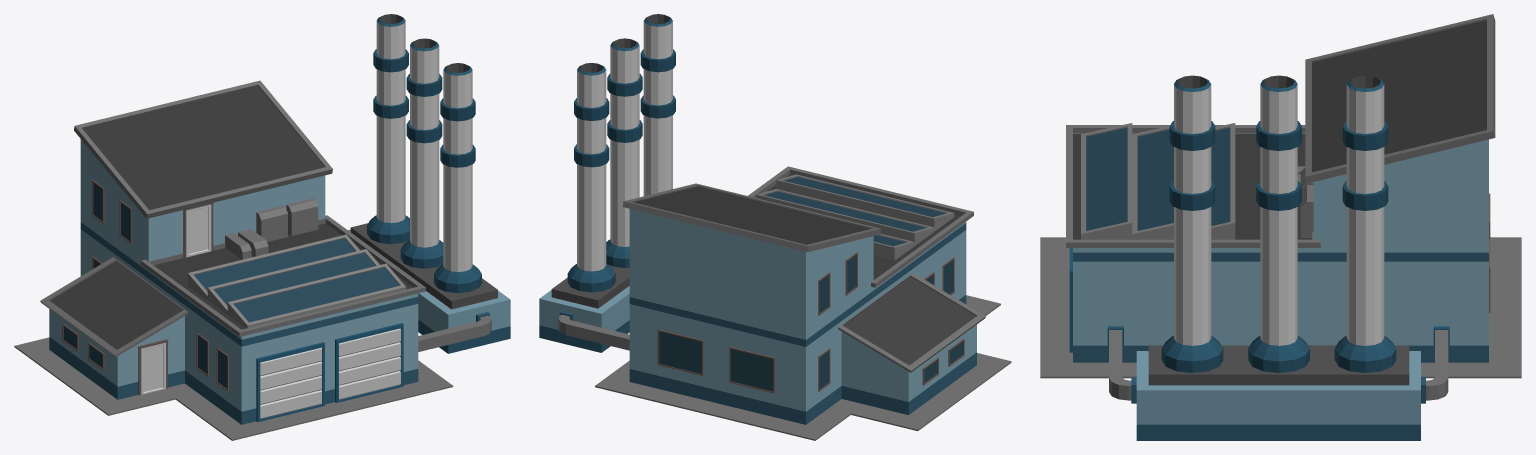
File: bldg-factory-b.glb
3 renders of one model, left to right at view 1: azimuth 30°, elevation 25°; view 2: azimuth 150°, elevation 25°; view 3: azimuth 270°, elevation 25°, orthographic. The views are drawn at different scales.
Parts seen in each view (by area): view 1: factorybuilding_b; view 2: factorybuilding_b; view 3: factorybuilding_b.
Part boxes in pixels (x1=…): factorybuilding_b: x1=14, y1=14, x2=510, y2=440; factorybuilding_b: x1=539, y1=14, x2=1011, y2=440; factorybuilding_b: x1=1040, y1=14, x2=1521, y2=440.
Bounding box in the file's own units: 34.69 × 22.73 × 29.23.
Materials: 1 (1 with a texture image).
